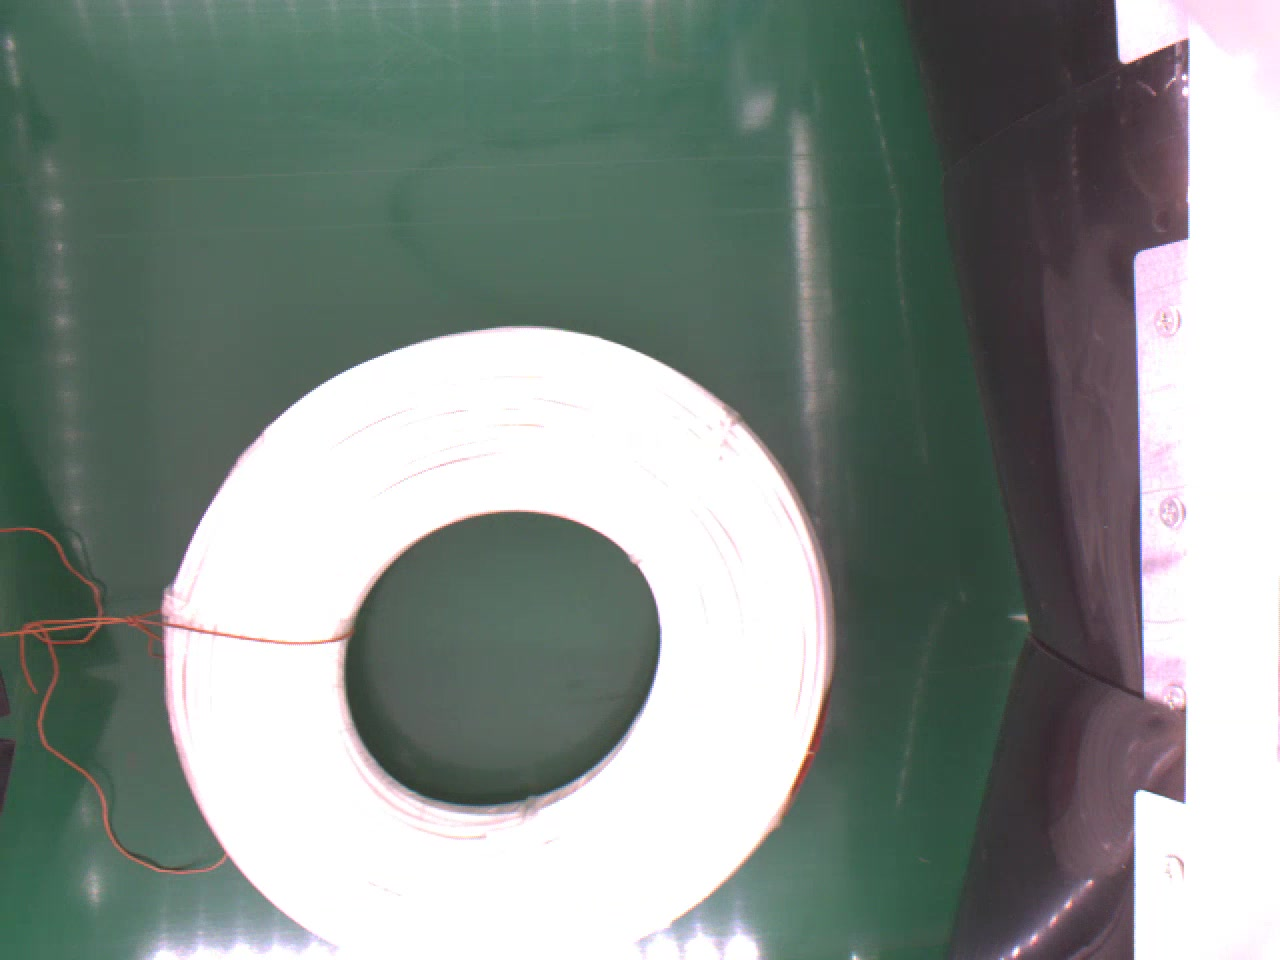white: (160, 318, 837, 960)
